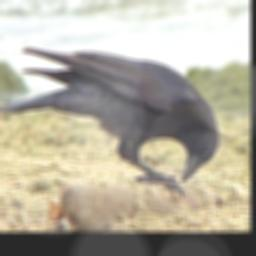Crow: (0, 47, 220, 202)
